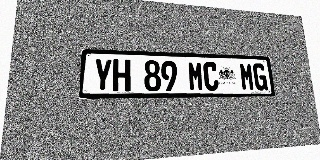8: (144, 60, 161, 91)
9: (161, 60, 178, 91)
C: (203, 62, 219, 91)
G: (252, 63, 268, 90)
H: (112, 59, 130, 91)
M: (187, 61, 204, 91), (239, 63, 255, 91)
Y: (93, 58, 112, 92)
